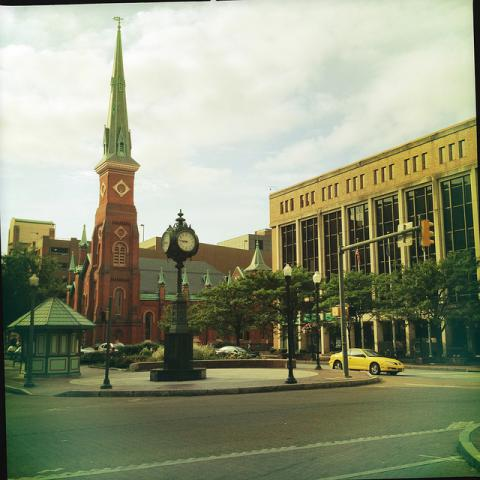car: (329, 349, 405, 375), (216, 346, 260, 358), (99, 342, 126, 354), (81, 345, 96, 353)
